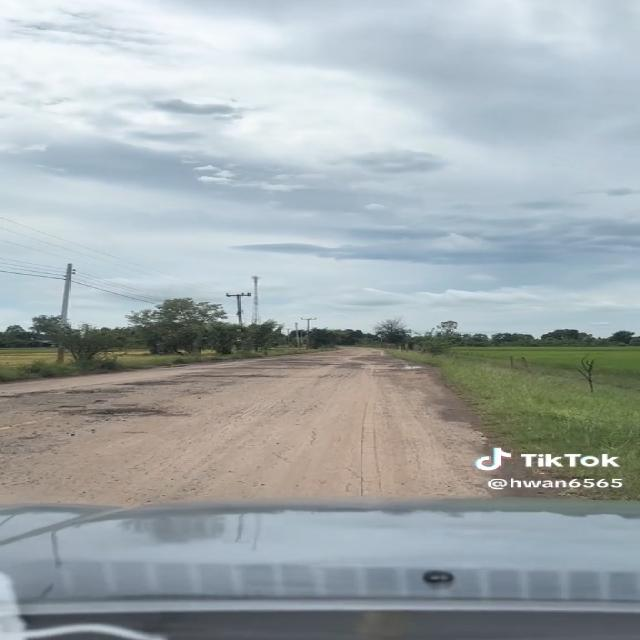Poth-hole: (259, 438, 392, 494)
